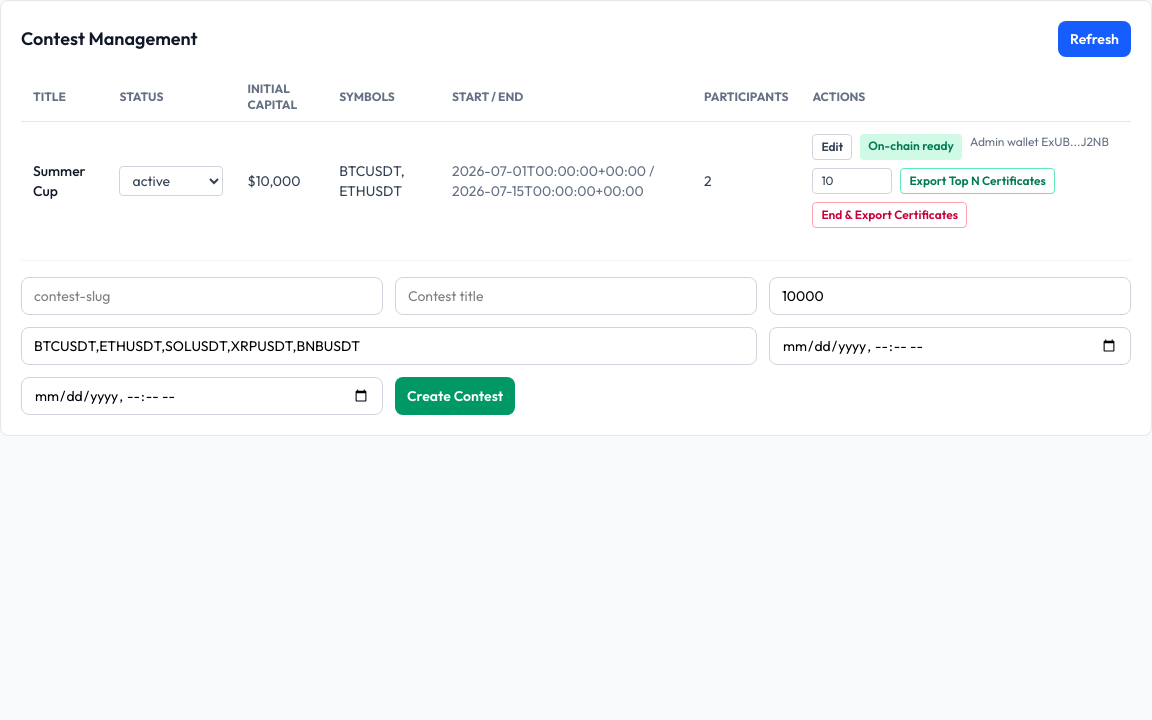
Test case: TabContests › locks joins on-chain, ends early, settles, and exports certificates
What coordinates should you click on to do the following:
click the button with test id "end-export-summer-cup"
I would click on:
 (890, 215)
Its box is [812, 202, 967, 228].
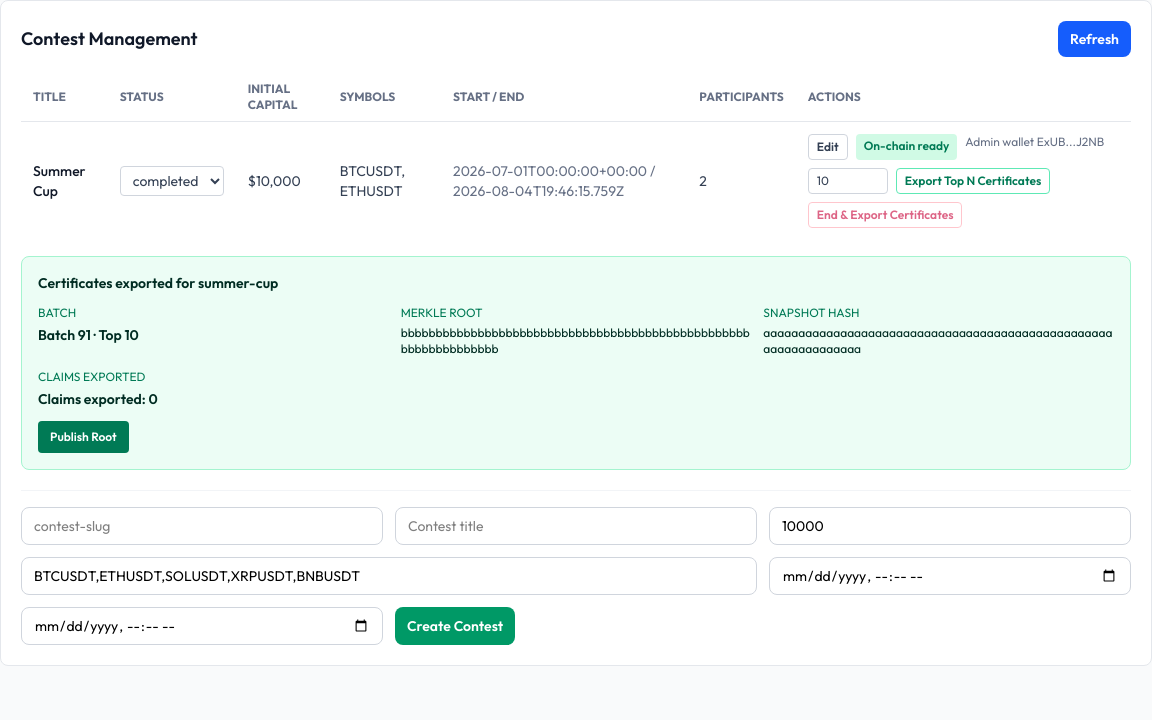
Expected: the text "Certificates exported for summer-cup" is shown, [38, 274, 278, 292]
Expected: the text "Claims exported: 0" is shown, [38, 390, 158, 408]
